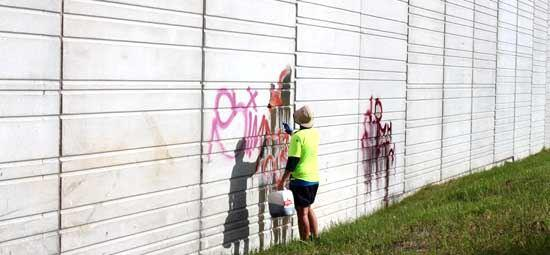graffiti: (263, 75, 290, 241), (208, 89, 261, 158), (362, 96, 392, 209)
